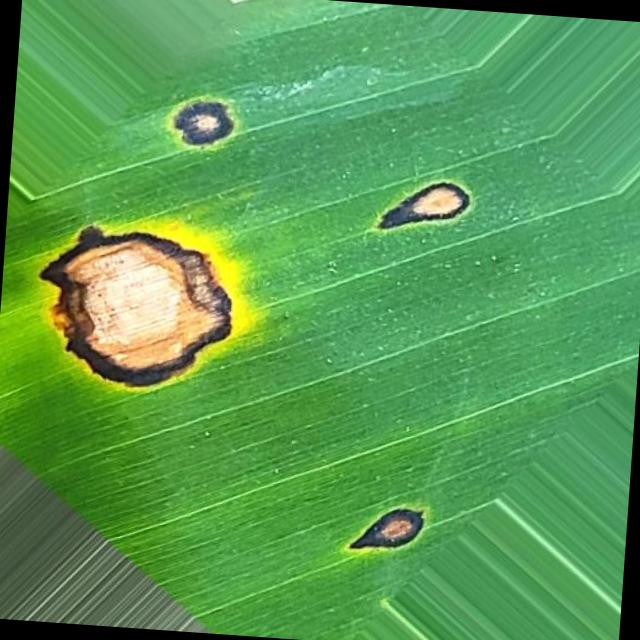Banana_Black_Sigatoka: (18, 194, 266, 420), (331, 491, 466, 608), (348, 163, 487, 263), (154, 88, 266, 168)
